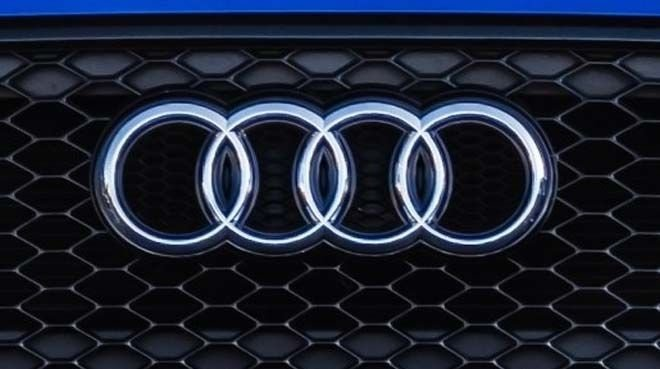audi: (83, 85, 564, 275)
